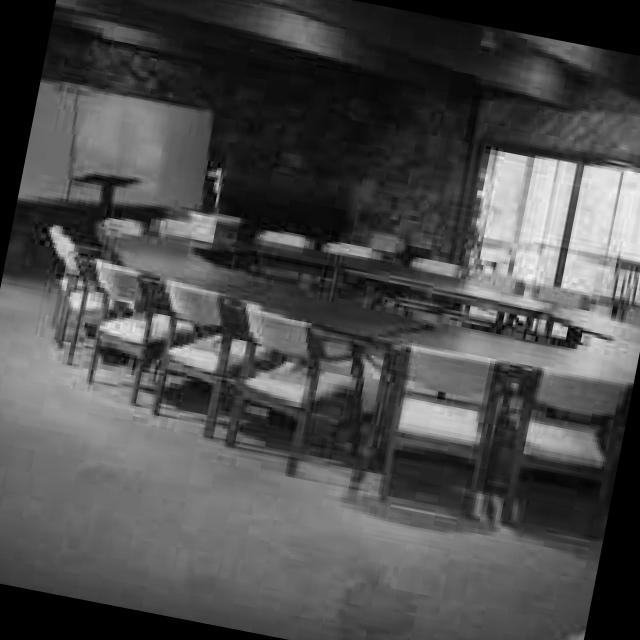2001: (468, 150, 578, 280), (559, 160, 640, 298)
ceiling beam: (56, 0, 640, 112)
chair: (531, 281, 588, 305), (406, 253, 459, 276), (97, 212, 142, 238), (319, 238, 379, 257), (468, 269, 521, 288), (149, 216, 196, 237), (254, 226, 307, 244)
chair -occluded-: (221, 292, 365, 471), (496, 364, 629, 534), (376, 342, 506, 511), (82, 251, 191, 404), (145, 280, 227, 431), (45, 225, 100, 363)
conference table: (95, 227, 640, 382)
overhead projector: (170, 155, 237, 242)
podium: (66, 165, 137, 215)
projection screen: (18, 80, 206, 206)
